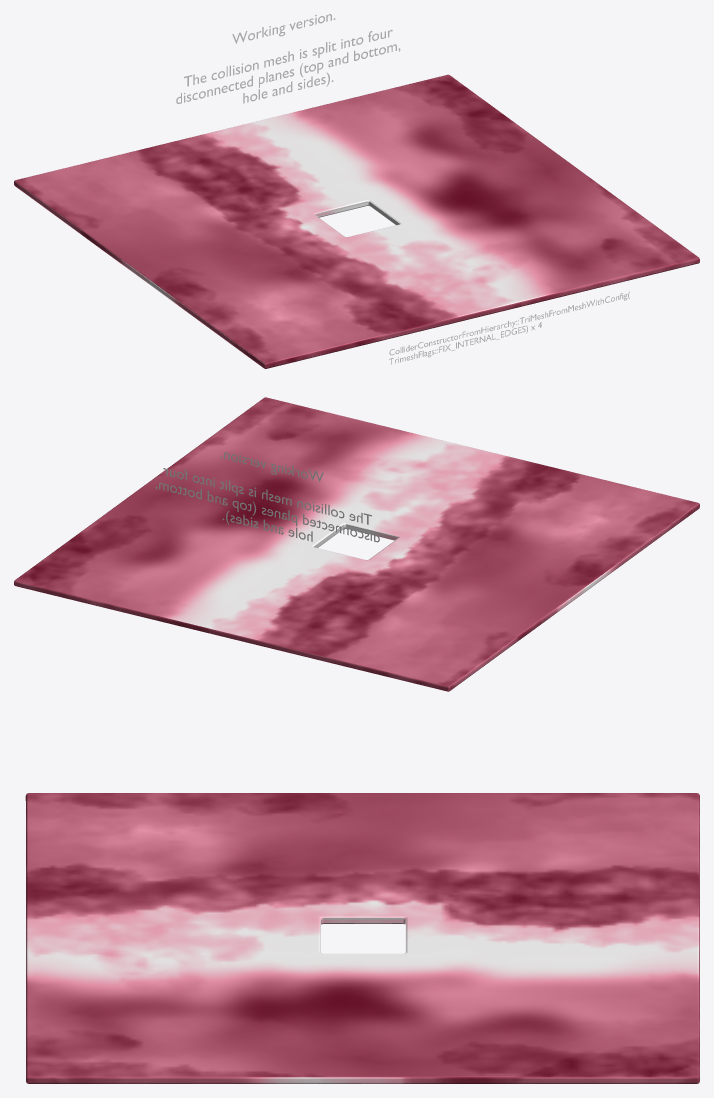
The model's file is level_0_edit_fixed.glb.
The picture shows the model from 3 angles, top to bottom: view 1: azimuth 30°, elevation 25°; view 2: azimuth 150°, elevation 25°; view 3: azimuth 270°, elevation 25°; orthographic projection. The views are drawn at different scales.
Visible parts, largest first — view 1: Floor.002, Text.005, Text.004; view 2: Floor.002, Text.005; view 3: Floor.002.
Part boxes in pixels (bbox=[...]): Floor.002: bbox=[14, 74, 699, 368]; Text.005: bbox=[176, 14, 400, 103]; Text.004: bbox=[389, 291, 629, 364]; Floor.002: bbox=[14, 397, 699, 691]; Text.005: bbox=[155, 452, 379, 542]; Floor.002: bbox=[25, 793, 699, 1083].
Bounding box in the file's own units: 29.71 × 10.87 × 30.24.
Materials: 2 (1 with a texture image).
